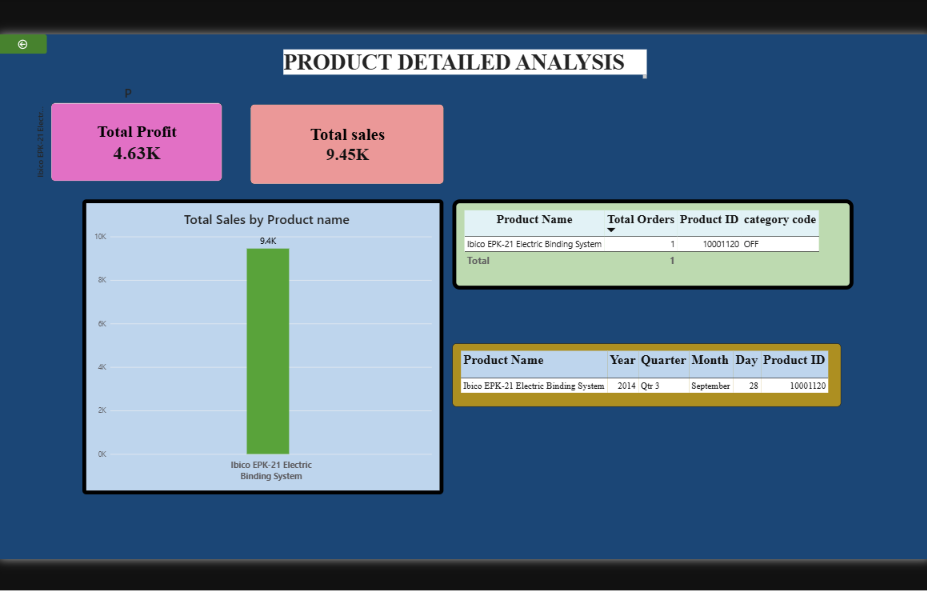

This screenshot's page, from the dashboard's own definition file:
{"tool":"powerbi","page":{"name":"Product detail Analysis","canvas":[1920,1080],"ordinal":5},"visuals":[{"type":"tableEx","fields":{"Values":["Product_details.Product Name","Data.Total Orders","Product_details.Product ID","Product_details.category code"]},"box":[934.5,339.6,825.4,185.2],"z":0},{"type":"actionButton","box":[0,0,100,40],"z":1000},{"type":"columnChart","title":"Total  Sales by Product name","fields":{"Category":["Product_details.Product Name"],"Y":["Sum(Data.Sales)"]},"box":[172.9,339.6,743.1,607.2],"z":2000},{"type":"cardVisual","title":"P","fields":{"Rows":["Product_details.Product Name"],"Data":["Sum(Data.Profit)"]},"box":[74,100,386,202],"z":3000},{"type":"textbox","title":"PRODUCT DETAILED ANALYSIS","box":[586,30,748,60],"z":4000},{"type":"cardVisual","fields":{"Data":["Data.Total sales"]},"box":[518,144,398,164],"z":5000},{"type":"tableEx","fields":{"Values":["Product_details.Product Name","Data.Ship Date.Variation.Date Hierarchy.Year","Data.Ship Date.Variation.Date Hierarchy.Quarter","Data.Ship Date.Variation.Date Hierarchy.Month","Data.Ship Date.Variation.Date Hierarchy.Day","Product_details.Product ID"]},"box":[934,636,800,130],"z":6000}]}

Visuals, with their boxes in screenshot pixels (x1, y1, x2, y2):
tableEx - Product_details.Product Name x Data.Total Orders: [445, 200, 838, 288]
actionButton: [0, 39, 48, 58]
"Total  Sales by Product name" columnChart: [82, 200, 436, 489]
"P" cardVisual: [35, 86, 219, 182]
"PRODUCT DETAILED ANALYSIS" textbox: [279, 53, 635, 81]
cardVisual - Data.Total sales: [247, 107, 436, 185]
tableEx - Product_details.Product Name x Data.Ship Date.Variation.Date Hierarchy.Year: [445, 341, 826, 403]
